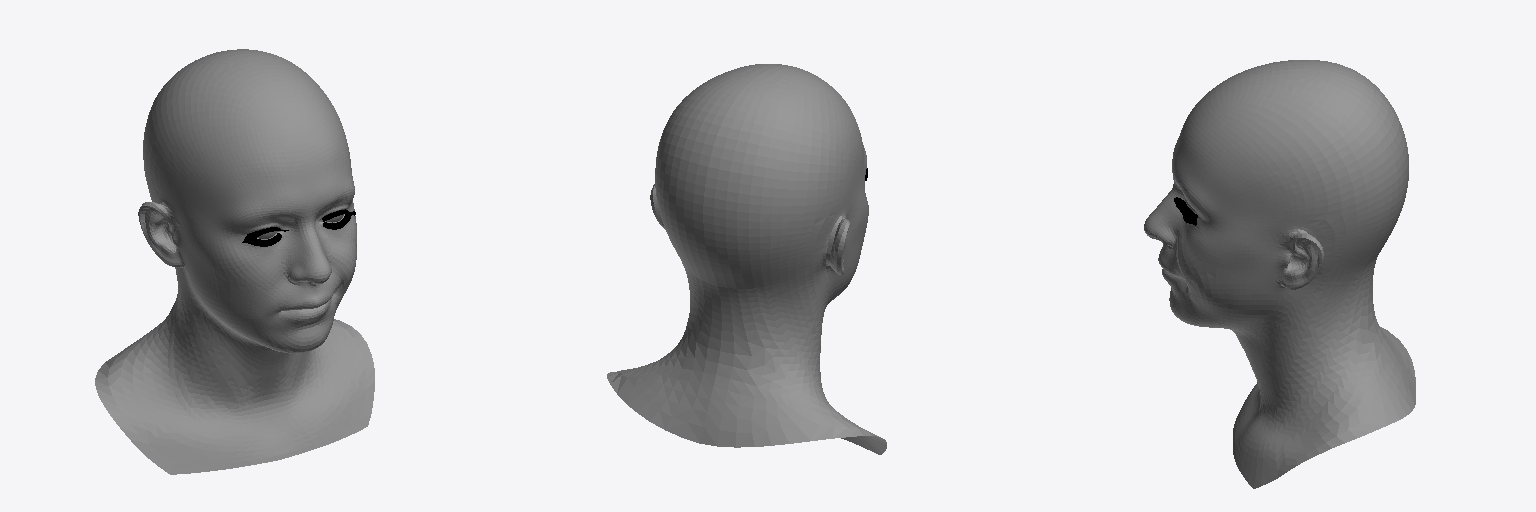
The model's file is mouthDimple_L.obj.
The picture shows the model from 3 angles: view 1: azimuth 30°, elevation 25°; view 2: azimuth 150°, elevation 25°; view 3: azimuth 270°, elevation 25°; orthographic projection.
Bounding box in the file's own units: 24.83 × 33.81 × 22.31.